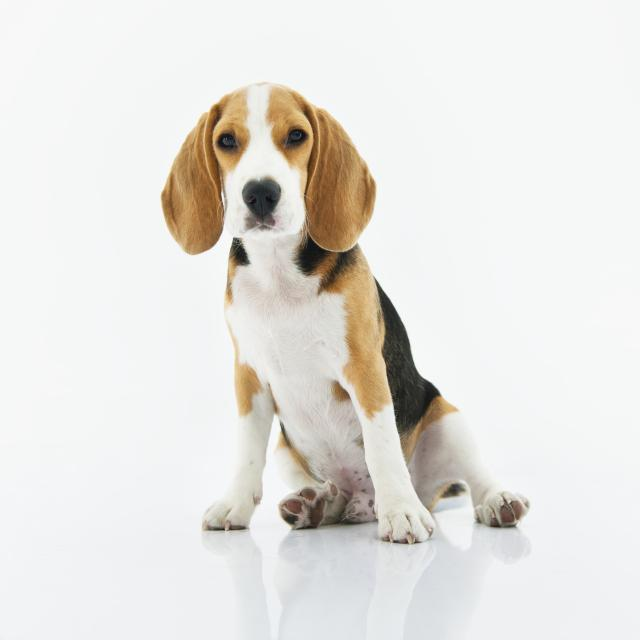dog: (161, 81, 531, 546)
